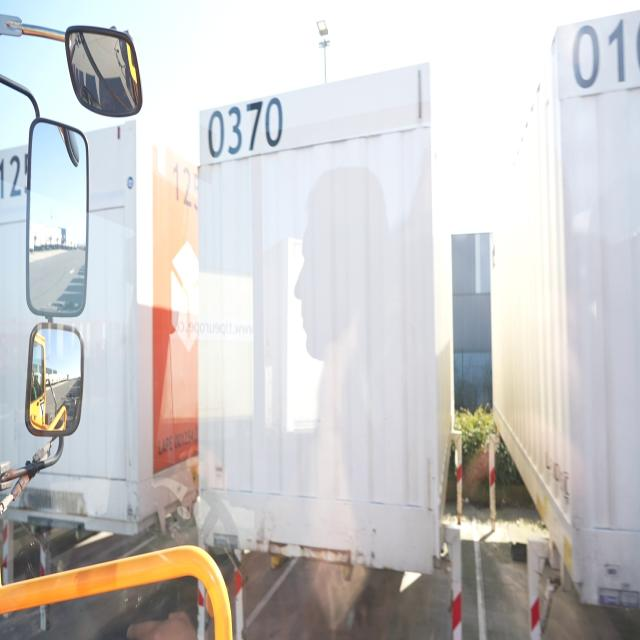Code: (204, 94, 290, 160)
